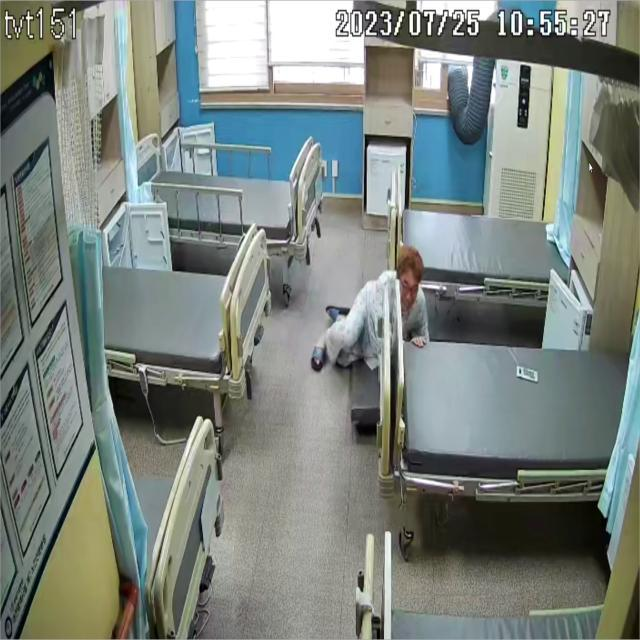bed: (397, 327, 631, 501), (102, 223, 274, 400), (136, 133, 320, 254), (388, 183, 570, 304)
fall: (312, 245, 431, 368)
patient: (310, 245, 430, 368)
